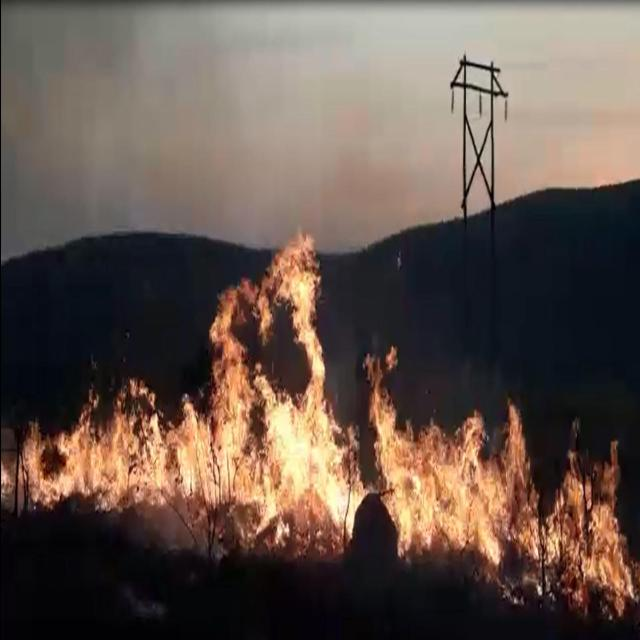Fire: (14, 225, 358, 545), (367, 352, 634, 612)
